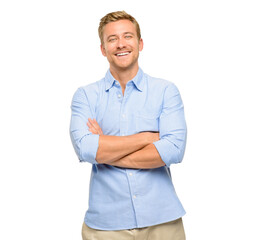young: (92, 3, 153, 78)
